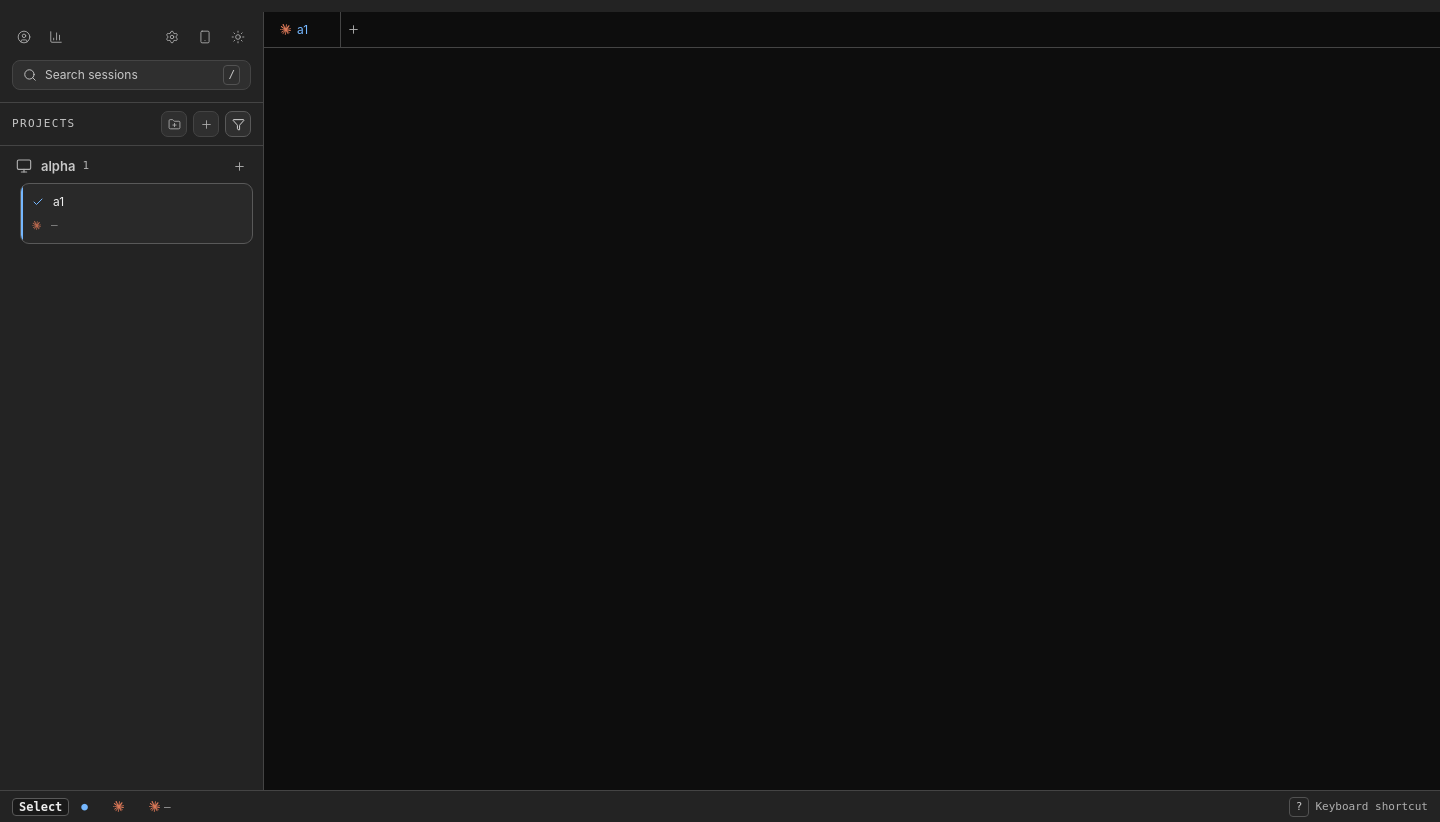
Test case: new project › starts a session in the chosen directory, by (cwd, name) in that order
Click the button named "new project" at x=206, y=124, box [193,111,219,137]
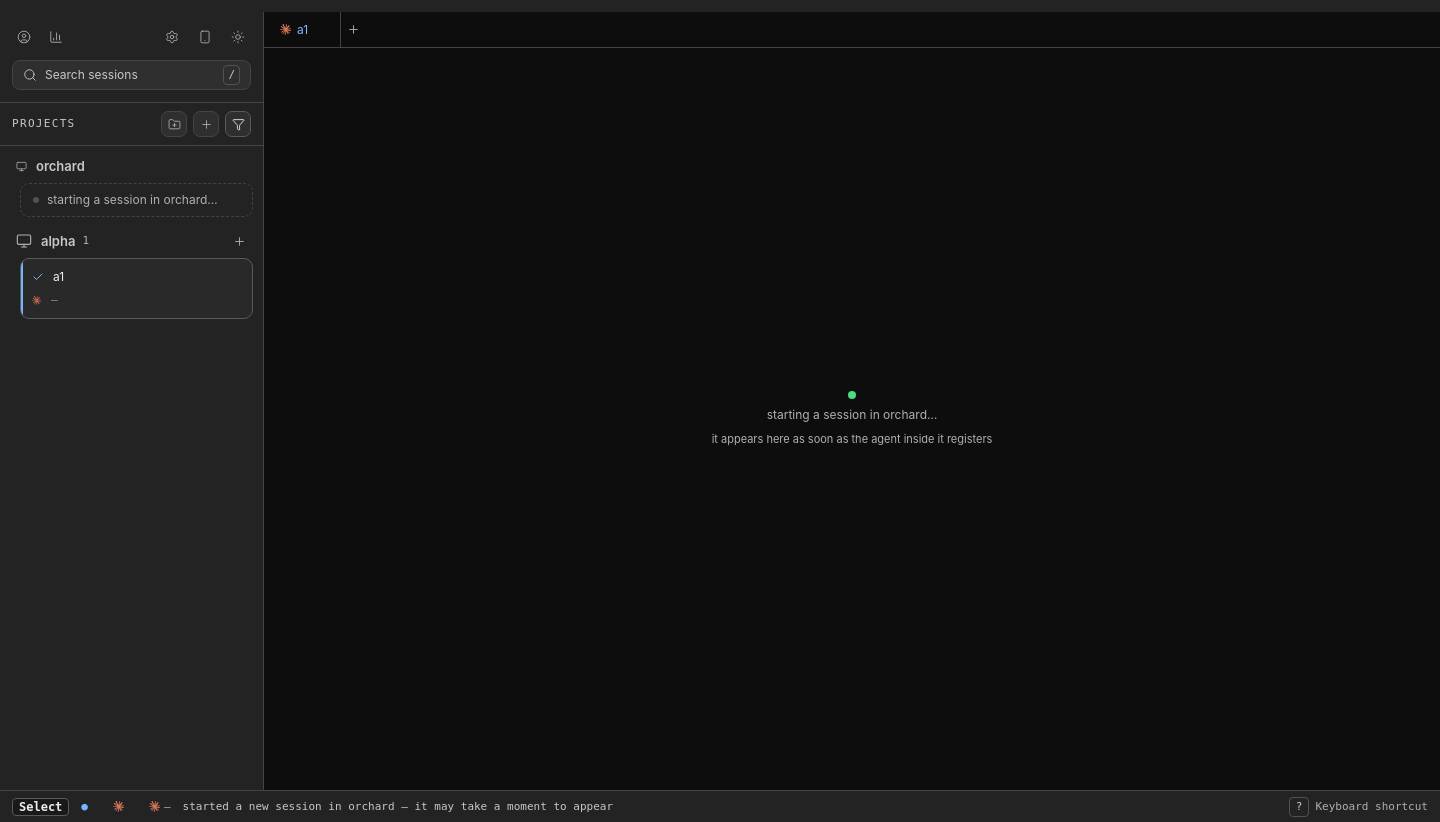
Check: the footer shows "orchard", box [183,800,613,812]
